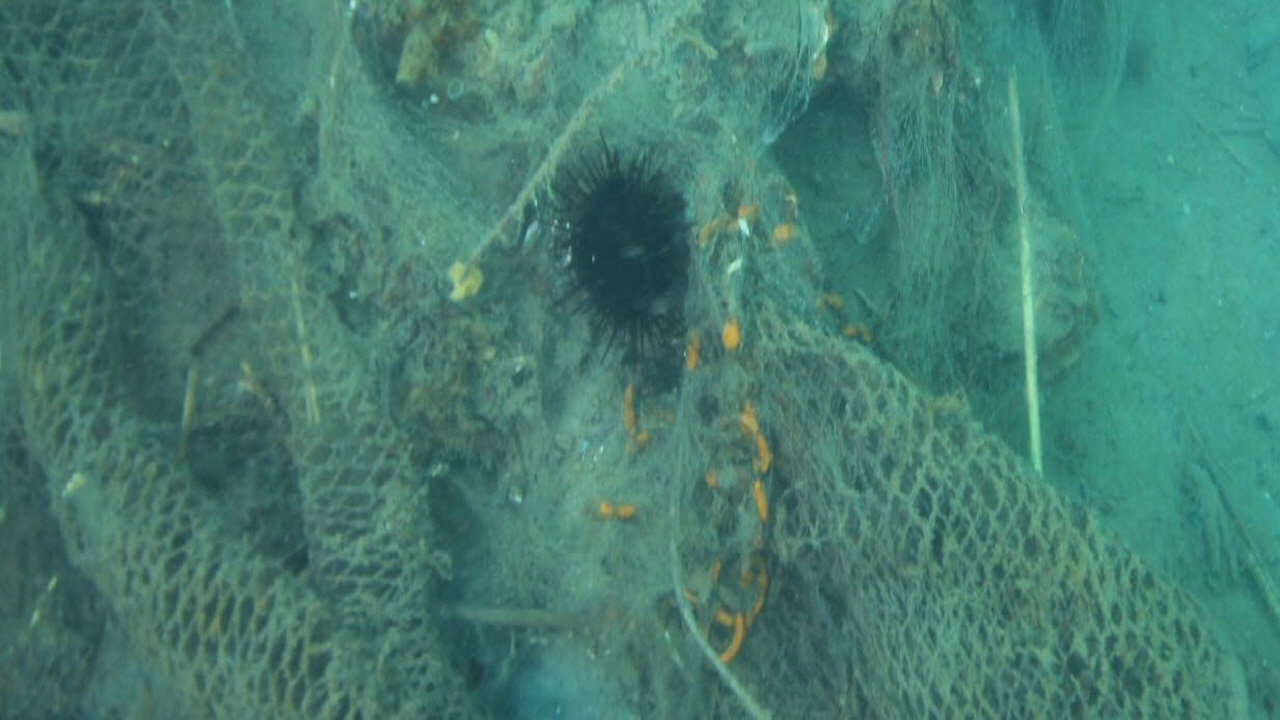fish net: (0, 1, 1249, 720)
